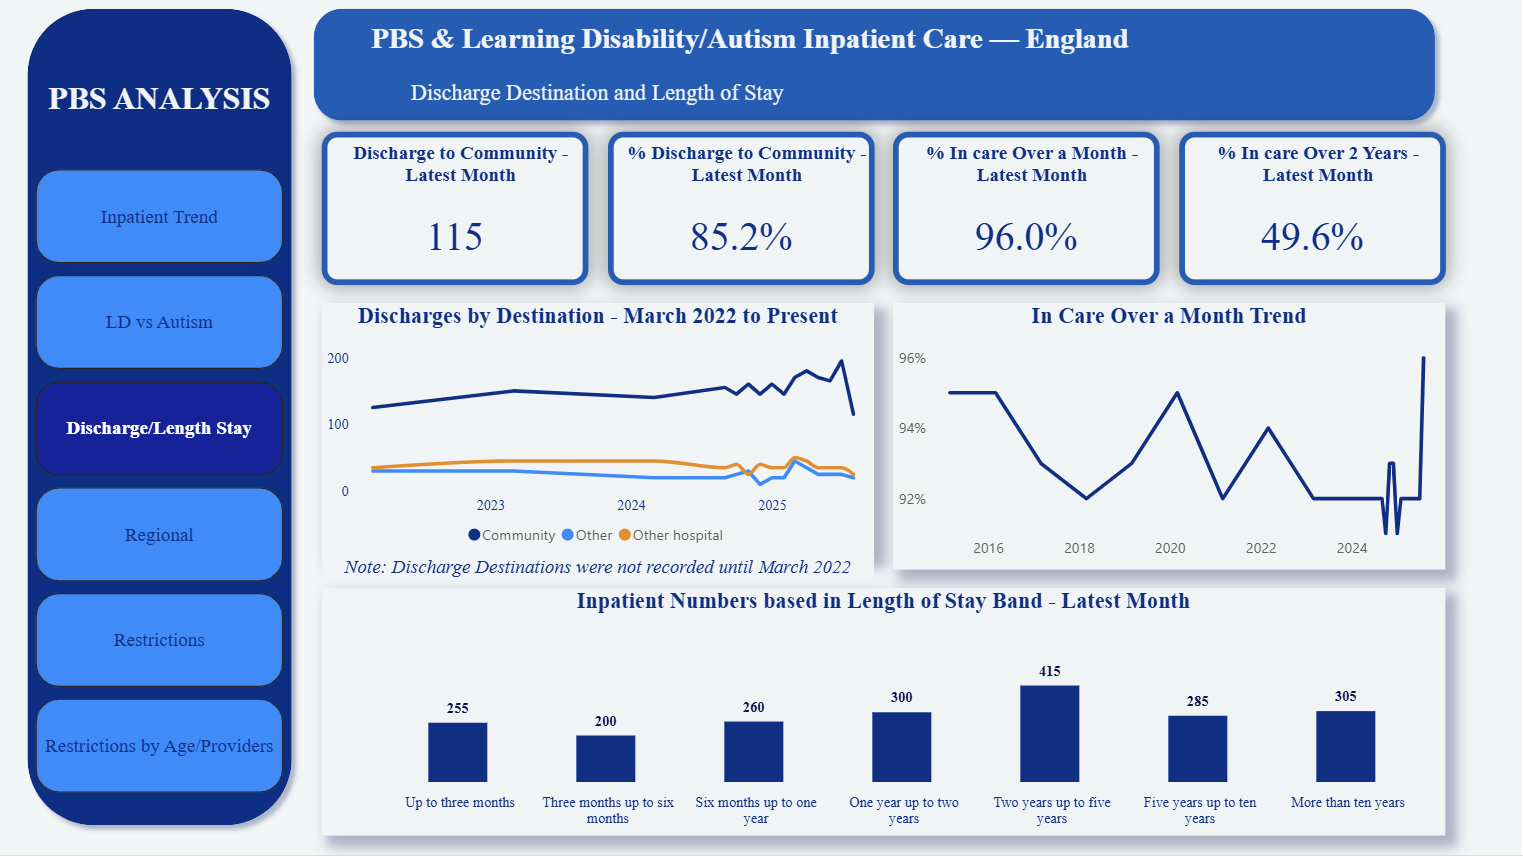

This screenshot's page, from the dashboard's own definition file:
{"tool":"powerbi","page":{"name":"Discharge/Length Stay","canvas":[1280,720],"ordinal":2},"visuals":[{"type":"shape","box":[256,0,960,112],"z":0},{"type":"shape","box":[16,0,240,704],"z":1000},{"type":"textbox","box":[288,16,688,48],"z":2000},{"type":"textbox","box":[304,64,400,32],"z":3000},{"type":"cardVisual","title":"Discharge to Community - Latest Month","fields":{"Data":["_Measures.Discharged to Community (Latest Month)"]},"box":[272,112,224,129],"z":4000},{"type":"cardVisual","title":"% Discharge to Community - Latest Month","fields":{"Data":["_Measures.% Discharges to Community (Latest Month)"]},"box":[512,112,224,129],"z":5000},{"type":"cardVisual","title":"% In care Over a Month - Latest Month","fields":{"Data":["_Measures.% In Care Over a Month (Latest Month)"]},"box":[752,112,224,129],"z":6000},{"type":"cardVisual","title":"% In care Over 2 Years - Latest Month","fields":{"Data":["_Measures.% In Care Over 2 Years (Latest Month)"]},"box":[992,112,224,129],"z":7000},{"type":"lineChart","title":"Discharges by Destination - March 2022 to Present","fields":{"Category":["Dim_Date.Date"],"Series":["Fact_National_TimeSeries.Destination Group"],"Y":["_Measures.Discharges by Destination"]},"box":[272,256,464,213],"z":8000},{"type":"textbox","box":[272,464,464,30],"z":9000},{"type":"lineChart","title":"In Care Over a Month Trend","fields":{"Category":["Dim_Date.Date"],"Y":["_Measures.In Care Over a Month % (Trend)"]},"box":[752,256,464,224],"z":10000},{"type":"clusteredColumnChart","title":"Inpatient Numbers based in Length of Stay Band - Latest Month","fields":{"Category":["Fact_National_TimeSeries.Measure"],"Y":["_Measures.Length of Stay Band (Latest Month)"]},"box":[272,496,944,208],"z":11000},{"type":"pageNavigator","box":[32,144,208,528],"z":12000},{"type":"textbox","box":[32,64,208,64],"z":12001}]}

Visuals, with their boxes in screenshot pixels (x1, y1, x2, y2), scaled from the page's 1280x720 canvas onto the 1523x856 screenshot:
shape: [305,0,1447,133]
shape: [19,0,305,837]
textbox: [343,19,1161,76]
textbox: [362,76,838,114]
"Discharge to Community - Latest Month" cardVisual: [324,133,590,287]
"% Discharge to Community - Latest Month" cardVisual: [609,133,876,287]
"% In care Over a Month - Latest Month" cardVisual: [895,133,1161,287]
"% In care Over 2 Years - Latest Month" cardVisual: [1180,133,1447,287]
"Discharges by Destination - March 2022 to Present" lineChart: [324,304,876,558]
textbox: [324,552,876,587]
"In Care Over a Month Trend" lineChart: [895,304,1447,571]
"Inpatient Numbers based in Length of Stay Band - Latest Month" clusteredColumnChart: [324,590,1447,837]
pageNavigator: [38,171,286,799]
textbox: [38,76,286,152]
